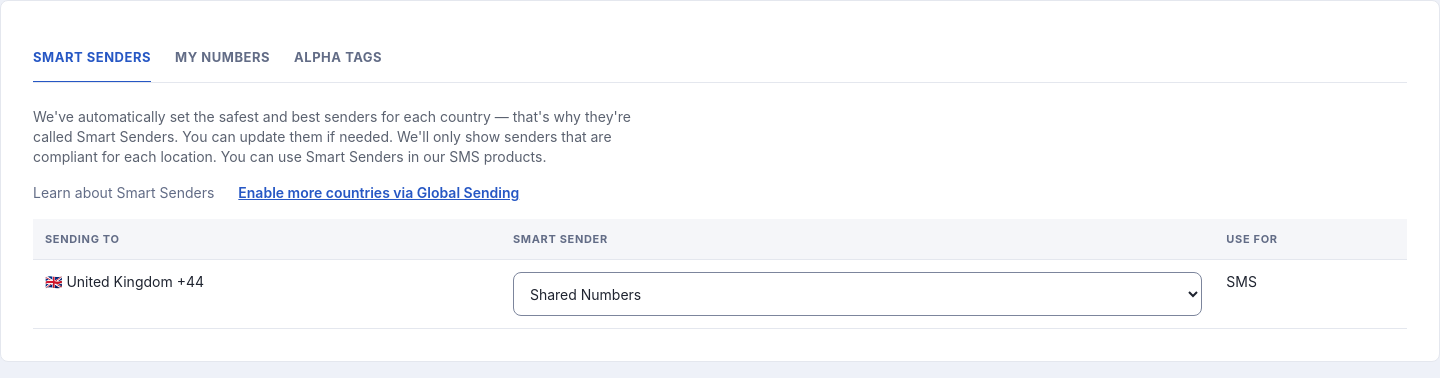
AlphaTagsTab › lists a registered alpha tag with its use case and status
This screenshot has width=1440, height=378.
Click the tab "Alpha Tags" at (338, 58), box [294,33,382,83]
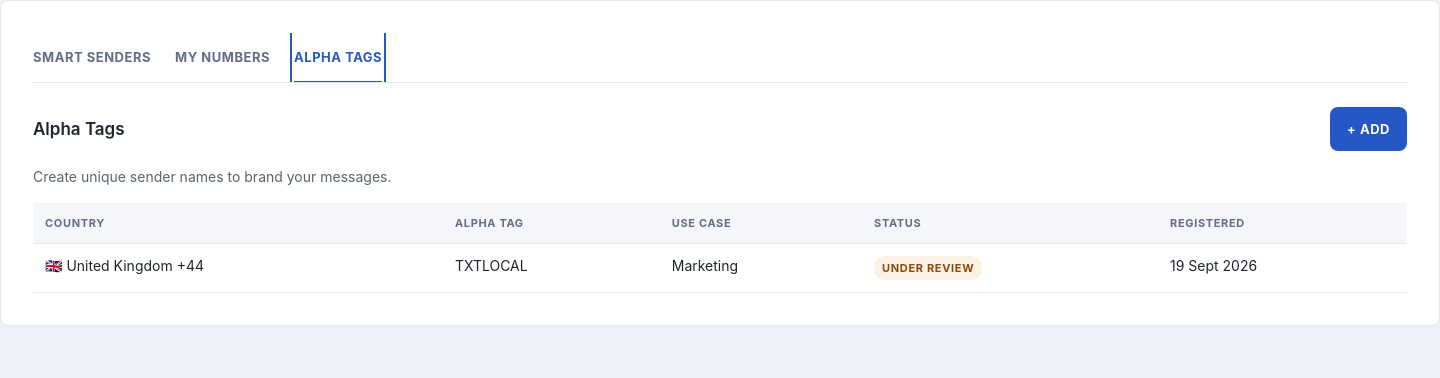
expect the text "TXTLOCAL" is shown: met, box [455,257,528,274]
expect the text "Marketing" is shown: met, box [660,244,862,292]
expect the text "Under review" is shown: met, box [874,256,982,280]
